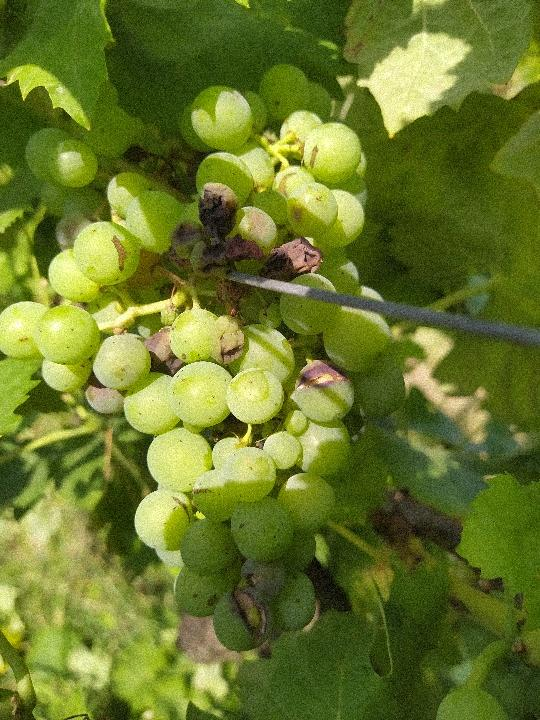grape: (6, 61, 408, 659)
